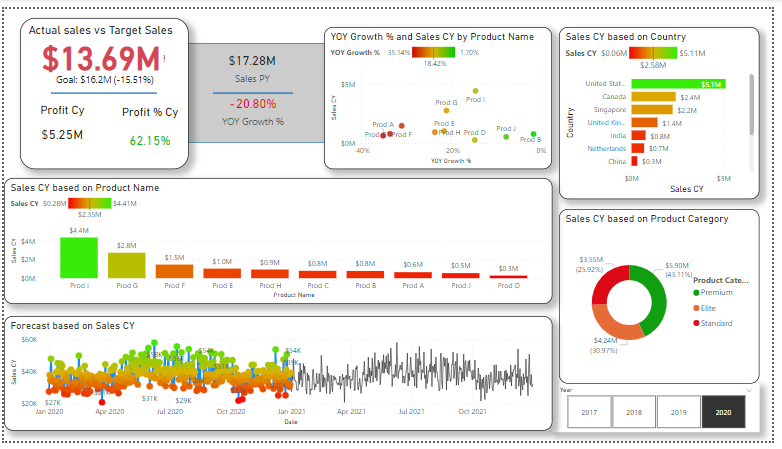

What the dashboard file says about the page in this screenshot:
{"tool":"powerbi","page":{"name":"Overview","canvas":[1280,720],"ordinal":0},"visuals":[{"type":"group","id":"g1","title":"Group 1","box":[26.9,15.1,507.3,252],"z":0},{"type":"shape","box":[253.7,57.1,280.5,166.3],"z":0,"group":"g1"},{"type":"kpi","title":"Actual sales vs Target Sales","fields":{"Indicator":["All Measures.Sales CY"],"TrendLine":["Calender.Year"],"Goal":["All Measures.Target Sales CY"]},"box":[26.9,15.1,280.5,252],"z":1000,"group":"g1"},{"type":"slicer","fields":{"Values":["Calender.Year"]},"box":[913.8,623.2,346,82.3],"z":1000},{"type":"scatterChart","fields":{"X":["All Measures.YOY Growth %"],"Y":["All Measures.Sales CY"],"Category":["Product Details.Product Name"]},"box":[534,30.2,379.6,236.9],"z":2000},{"type":"card","title":"Profit Cy","fields":{"Values":["All Measures.Profit CY"]},"box":[26.9,156.2,141.1,82.3],"z":2000,"group":"g1"},{"type":"barChart","title":"Sales CY based on Country","fields":{"Category":["Actual Sales.Country"],"Y":["All Measures.Sales CY"]},"box":[925.6,30.2,334.3,287.2],"z":3000},{"type":"card","title":"Profit % Cy","fields":{"Values":["All Measures.Profit % CY"]},"box":[137.8,159.6,210,94.1],"z":3000,"group":"g1"},{"type":"card","fields":{"Values":["All Measures.Sales PY"]},"box":[319.2,57.1,191.5,77.3],"z":4000,"group":"g1"},{"type":"donutChart","title":"Sales CY based on Product Category","fields":{"Category":["Product Details.Product Category"],"Y":["All Measures.Sales CY"]},"box":[925.6,332.6,334.3,290.6],"z":4000},{"type":"card","fields":{"Values":["All Measures.YOY Groth %"]},"box":[347.7,134.4,132.7,63.8],"z":5000,"group":"g1"},{"type":"clusteredColumnChart","title":"Sales CY based on Product Name","fields":{"Category":["Product Details.Product Name"],"Y":["All Measures.Sales CY"]},"box":[0,282.2,913.8,210],"z":5000},{"type":"shape","box":[79,102.4,176.4,77.3],"z":6000,"group":"g1"},{"type":"lineChart","title":"Forecast based on Sales CY","fields":{"Category":["Calender.Date"],"Y":["All Measures.Sales CY"]},"box":[0,512.3,913.8,191.5],"z":6000},{"type":"shape","box":[347.7,102.4,132.7,77.3],"z":7000,"group":"g1"}]}

Visuals, with their boxes in screenshot pixels (x1, y1, x2, y2), scaled from the page's 1280x720 canvas onto the 782x449 screenshot:
"Group 1" group: left=16, top=9, right=326, bottom=167
shape: left=155, top=36, right=326, bottom=139
"Actual sales vs Target Sales" kpi: left=16, top=9, right=188, bottom=167
slicer - Calender.Year: left=558, top=389, right=770, bottom=440
scatterChart - All Measures.YOY Growth % x All Measures.Sales CY: left=326, top=19, right=558, bottom=167
"Profit Cy" card: left=16, top=97, right=103, bottom=149
"Sales CY based on Country" barChart: left=565, top=19, right=770, bottom=198
"Profit % Cy" card: left=84, top=100, right=212, bottom=158
card - All Measures.Sales PY: left=195, top=36, right=312, bottom=84
"Sales CY based on Product Category" donutChart: left=565, top=207, right=770, bottom=389
card - All Measures.YOY Groth %: left=212, top=84, right=293, bottom=124
"Sales CY based on Product Name" clusteredColumnChart: left=0, top=176, right=558, bottom=307
shape: left=48, top=64, right=156, bottom=112
"Forecast based on Sales CY" lineChart: left=0, top=319, right=558, bottom=439
shape: left=212, top=64, right=293, bottom=112
